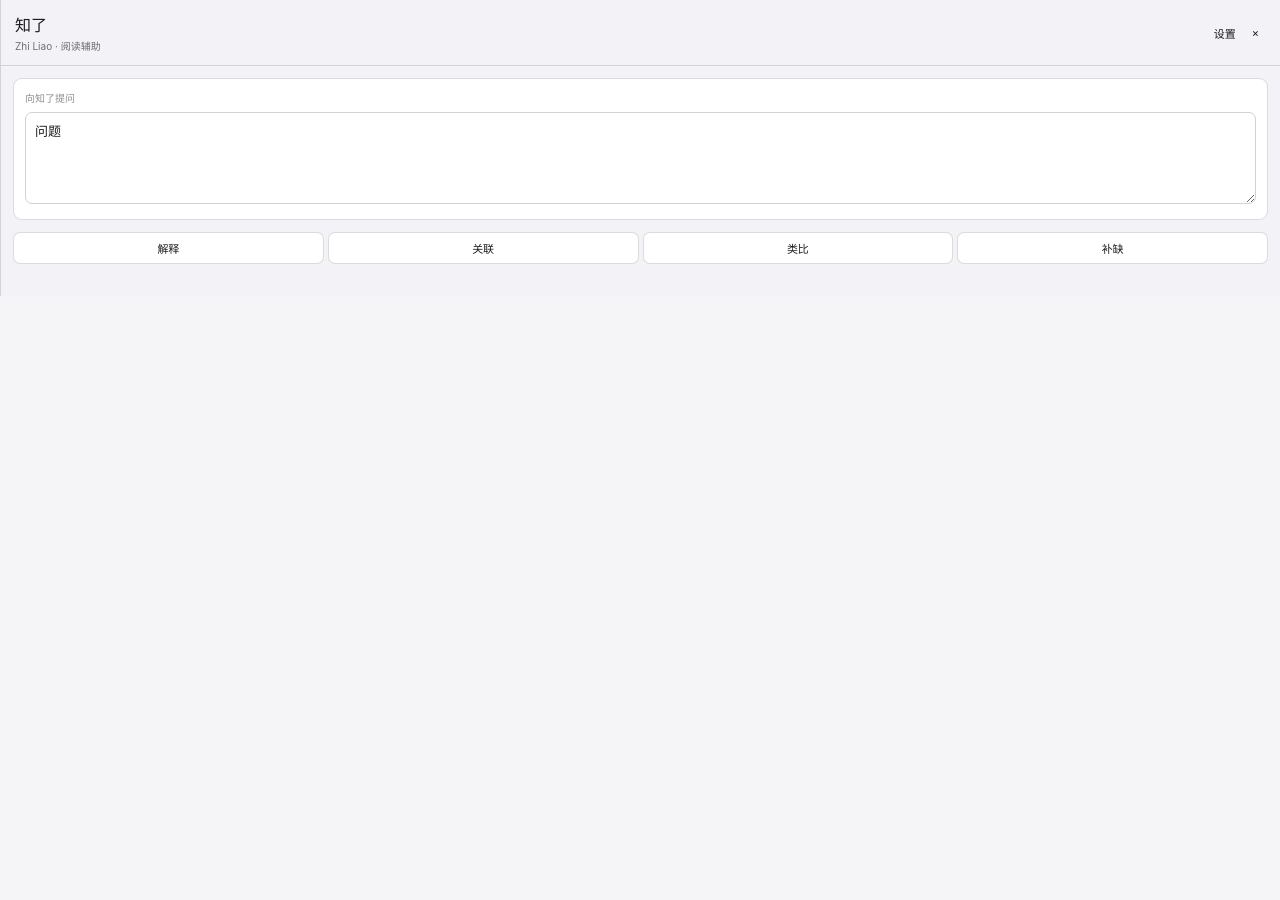
Scenario: AiPanel editable prompt › shows a recovery action for a missing model and tests the configured connection
Click the button "设置" at (1225, 32), box [1207,20,1243,46]
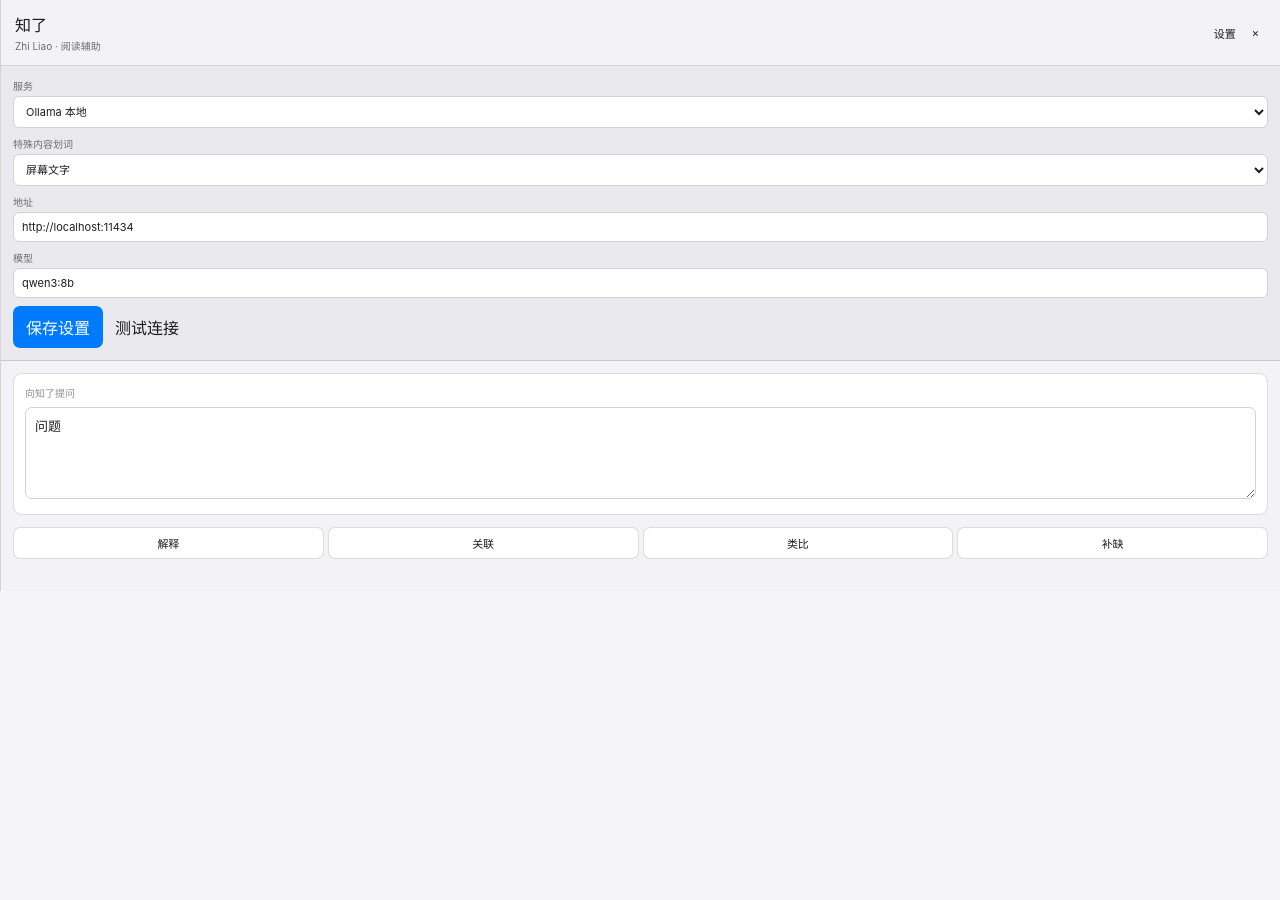
Click the button "测试连接" at (147, 327), box [109,306,185,348]
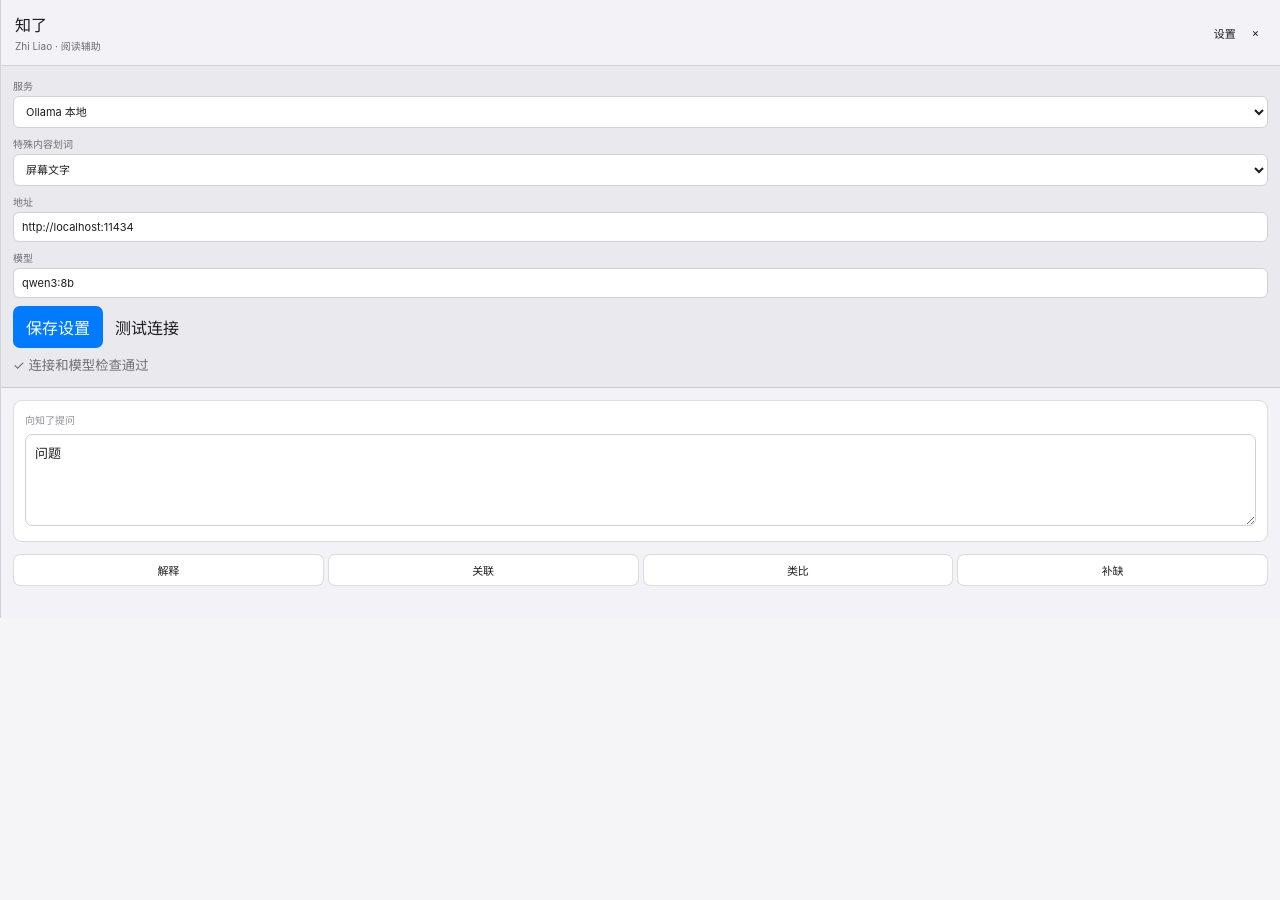
Now the text "✓ 连接和模型检查通过" is shown, box [13,357,148,373]
Click the button "解释" at (168, 570), box [13,554,324,586]
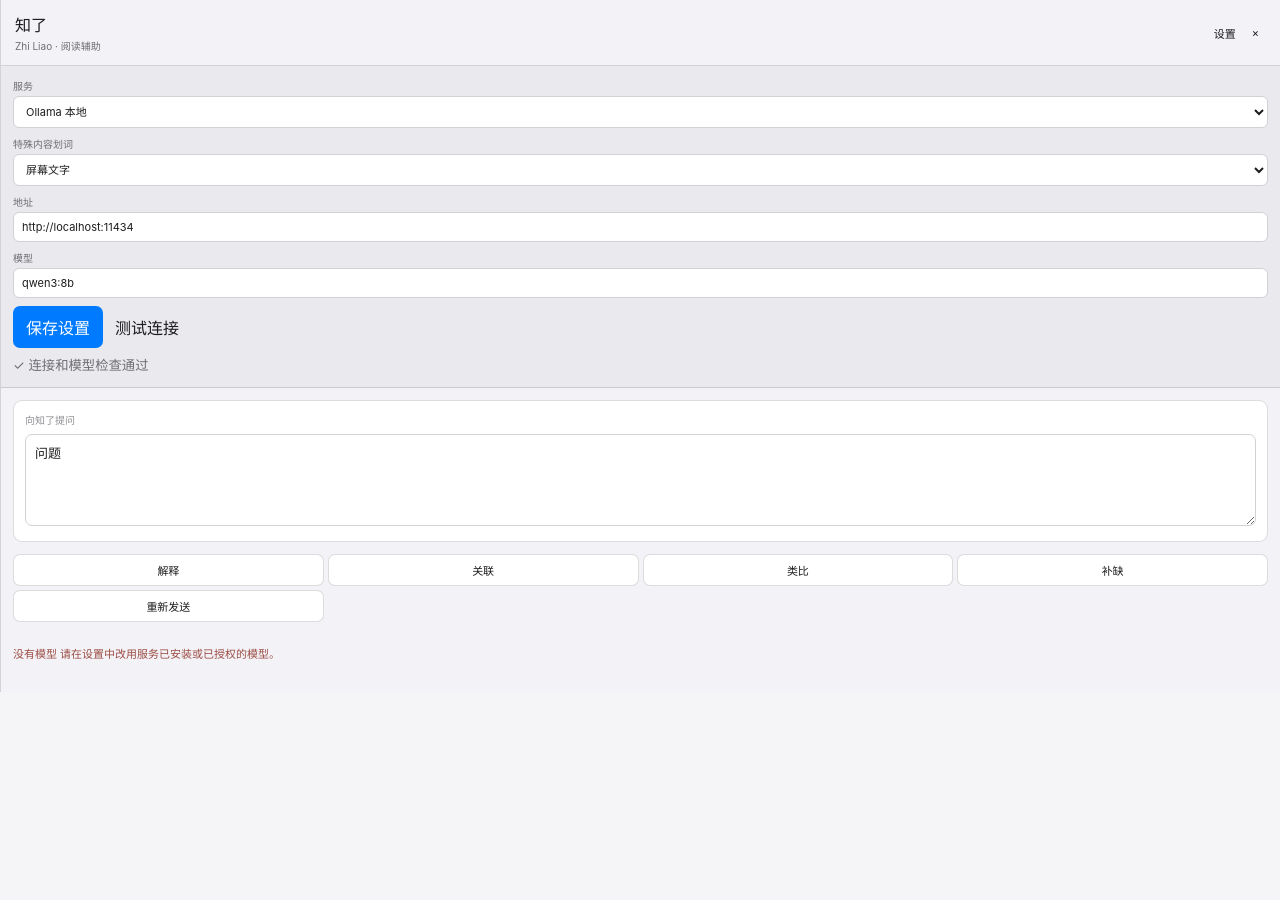
Now the text "没有模型 请在设置中改用服务已安装或已授权的模型。" is shown, box [13,647,280,661]
